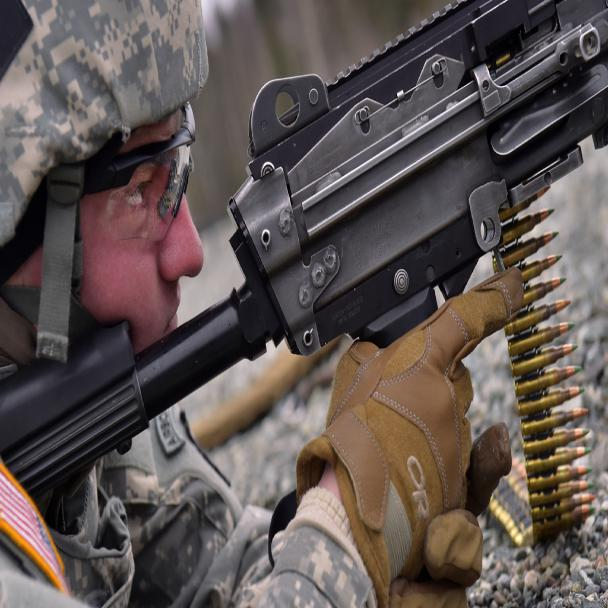Gun: (1, 0, 607, 542)
Hand: (311, 264, 545, 575)
